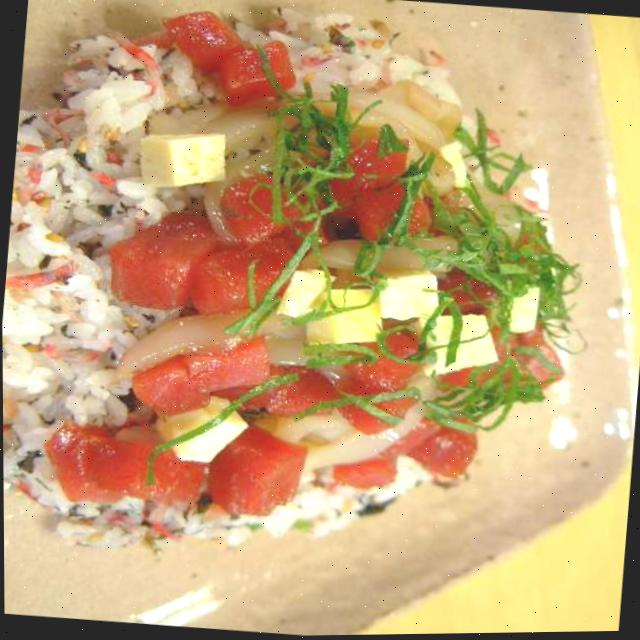寿司卷物: (0, 0, 616, 602)
